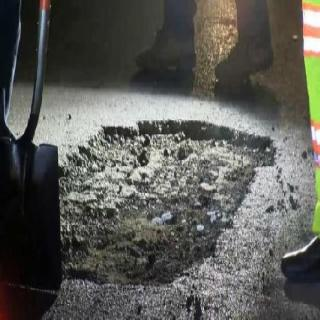pothole: (59, 120, 276, 285)
